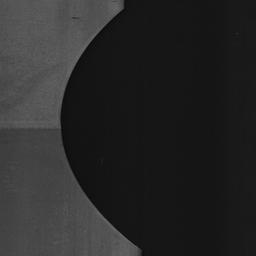Crescent gap: (60, 10, 140, 249)
